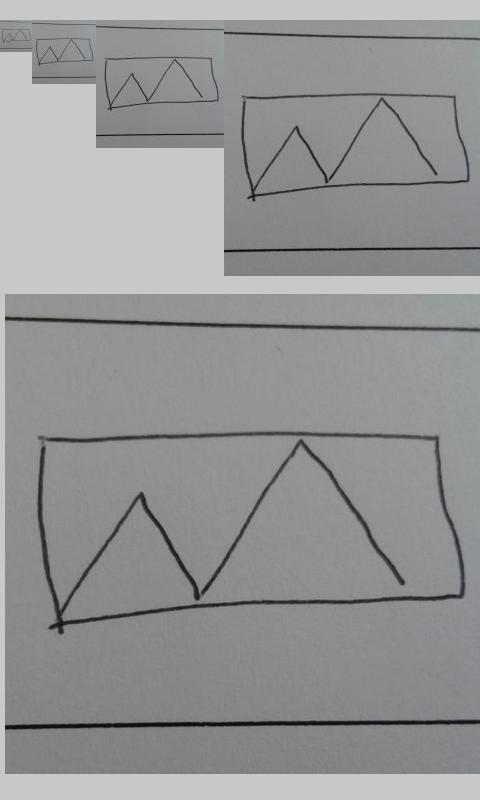image_view: (33, 428, 467, 628), (240, 93, 473, 201), (103, 55, 221, 111), (35, 36, 95, 66), (1, 28, 32, 43)
